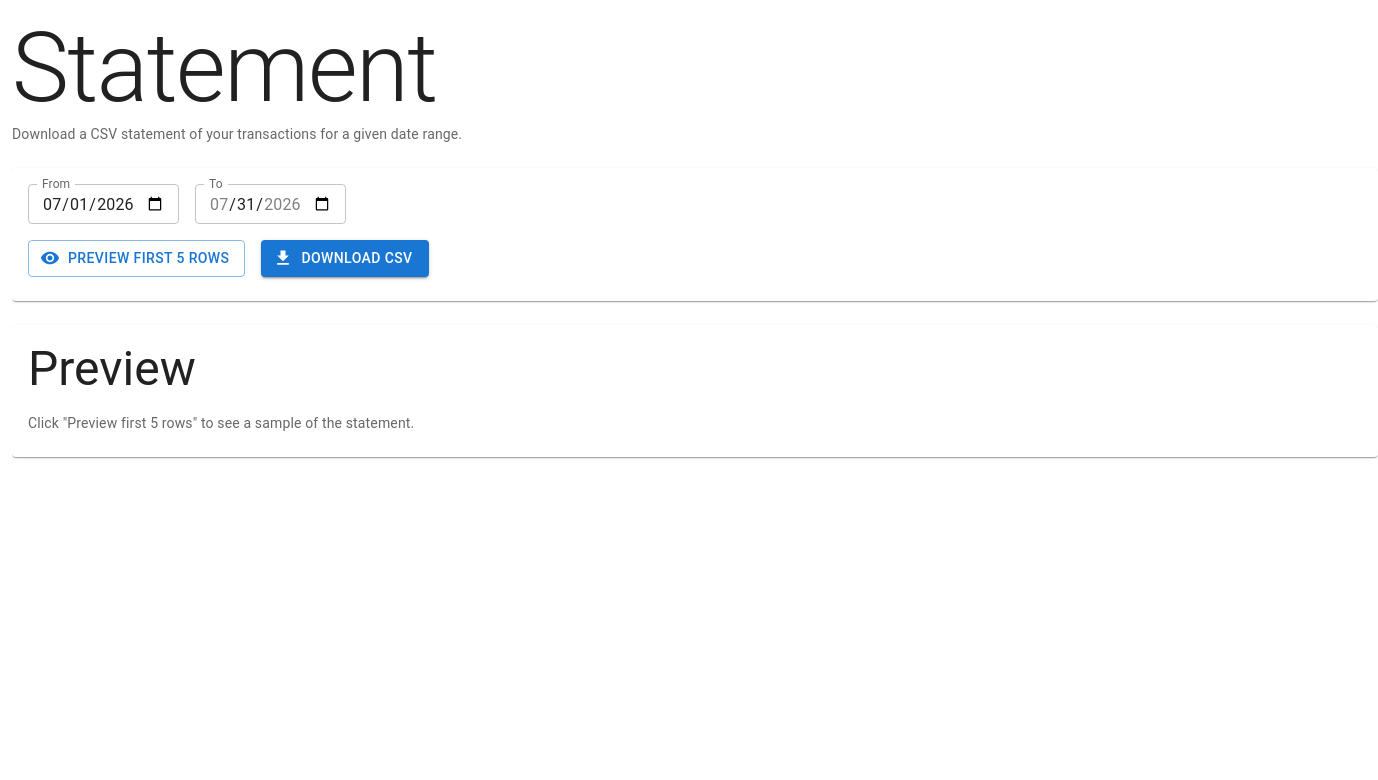
StatementPage › preview button parses the CSV and renders the first rows
Click the button with test id "preview-button": (137, 258) [28,240,245,276]
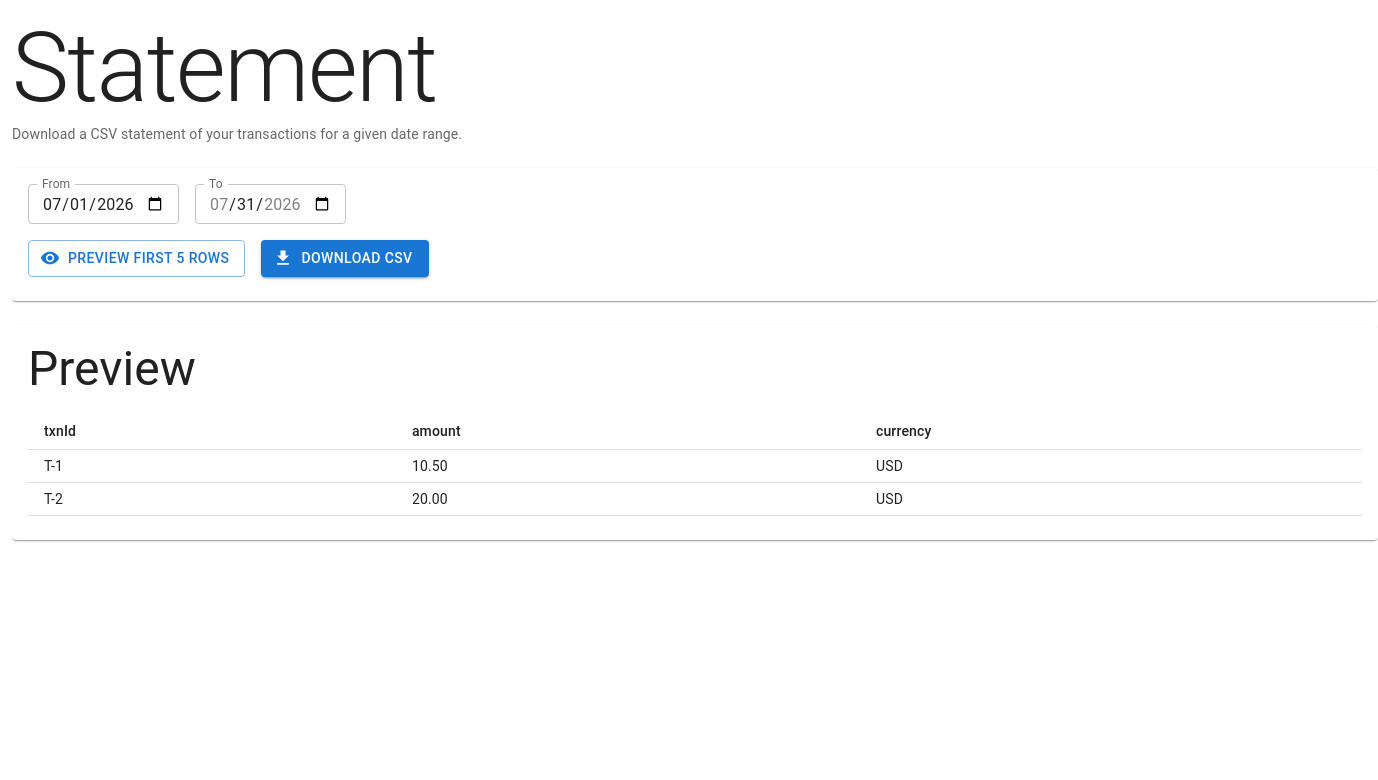
Result: the table with test id "preview-table" is shown at [28,413,1362,516]
Result: the column heading "txnId" is shown at [28,413,396,449]
Result: the text "T-1" is shown at [28,449,396,482]
